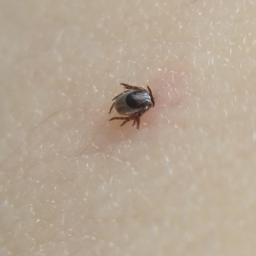Ixodes scapularis: (109, 83, 156, 129)
